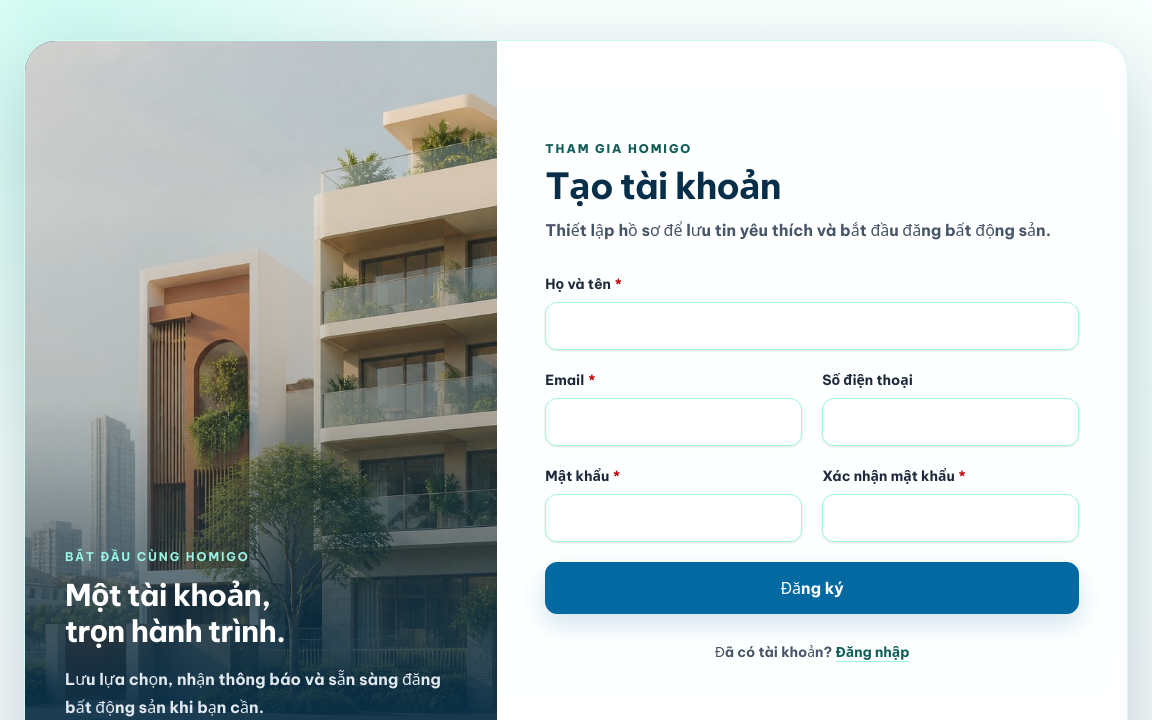
it: account pages › validates register confirmation before sending
Type "Nguyễn An" into the field labelled "Họ và tên*".
click(812, 326); type("Nguyễn An")  # box [545,302,1079,350]
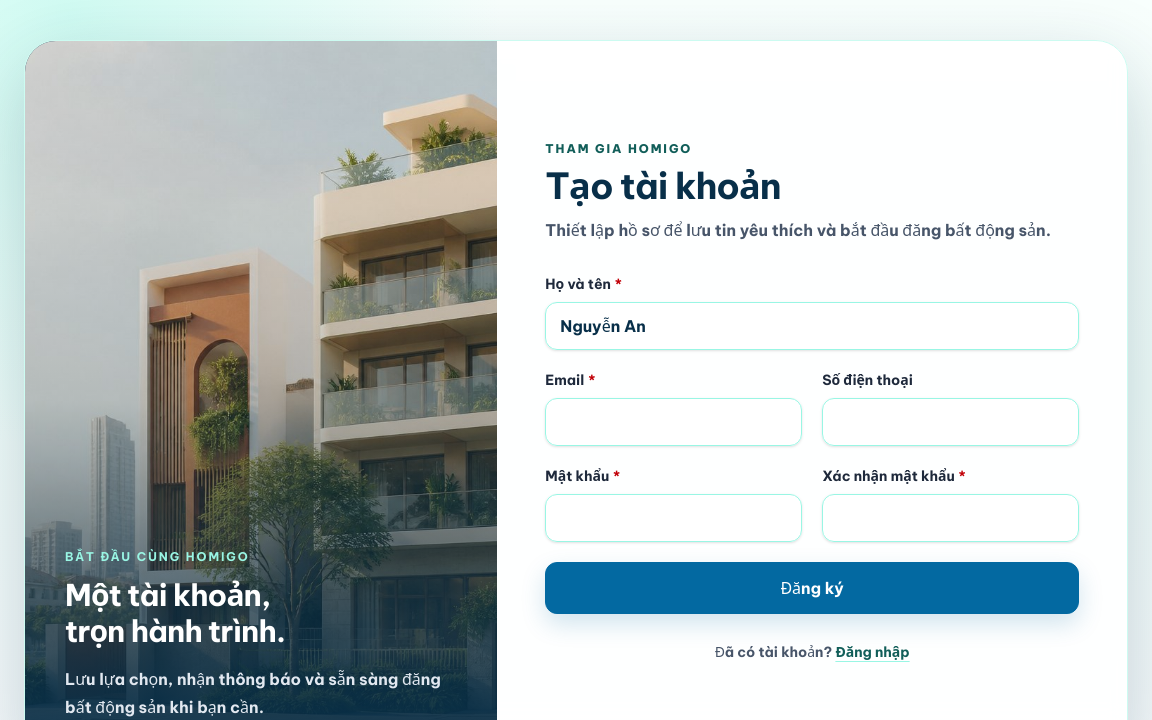
Type "an@test.vn" into the field labelled "Email*".
click(674, 422); type("an@test.vn")  # box [545,398,802,446]
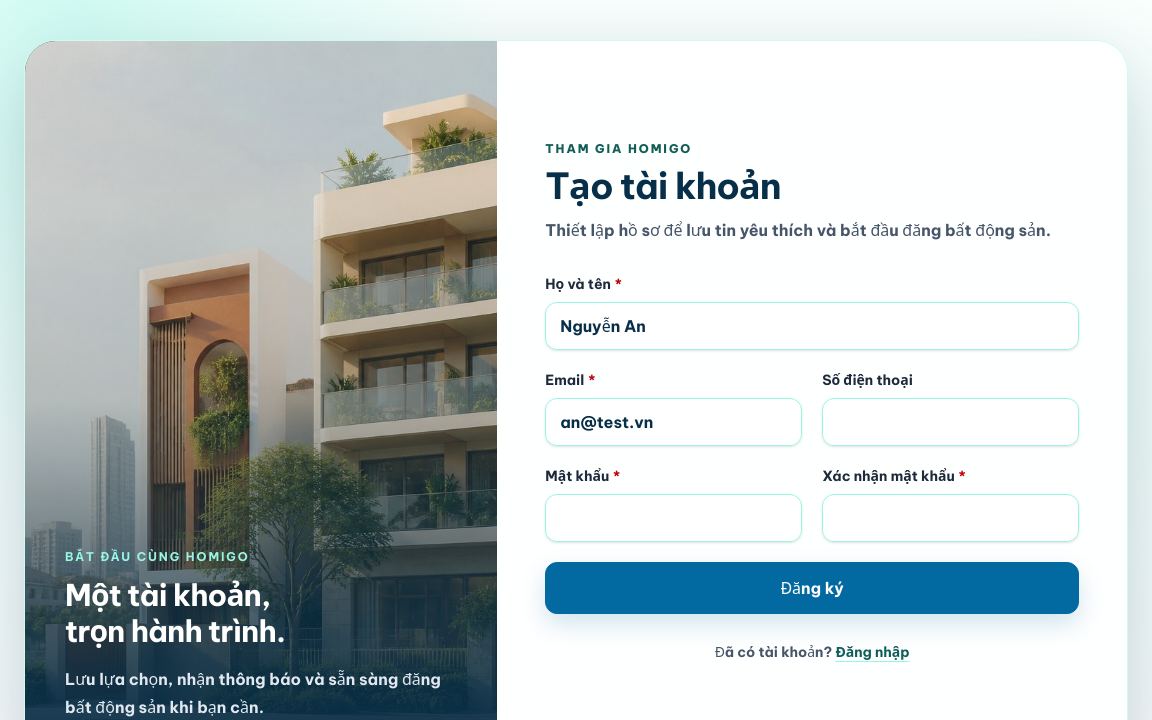
Type "correct-horse" into the password field labelled "Mật khẩu*".
click(674, 518); type("correct-horse")  # box [545,494,802,542]
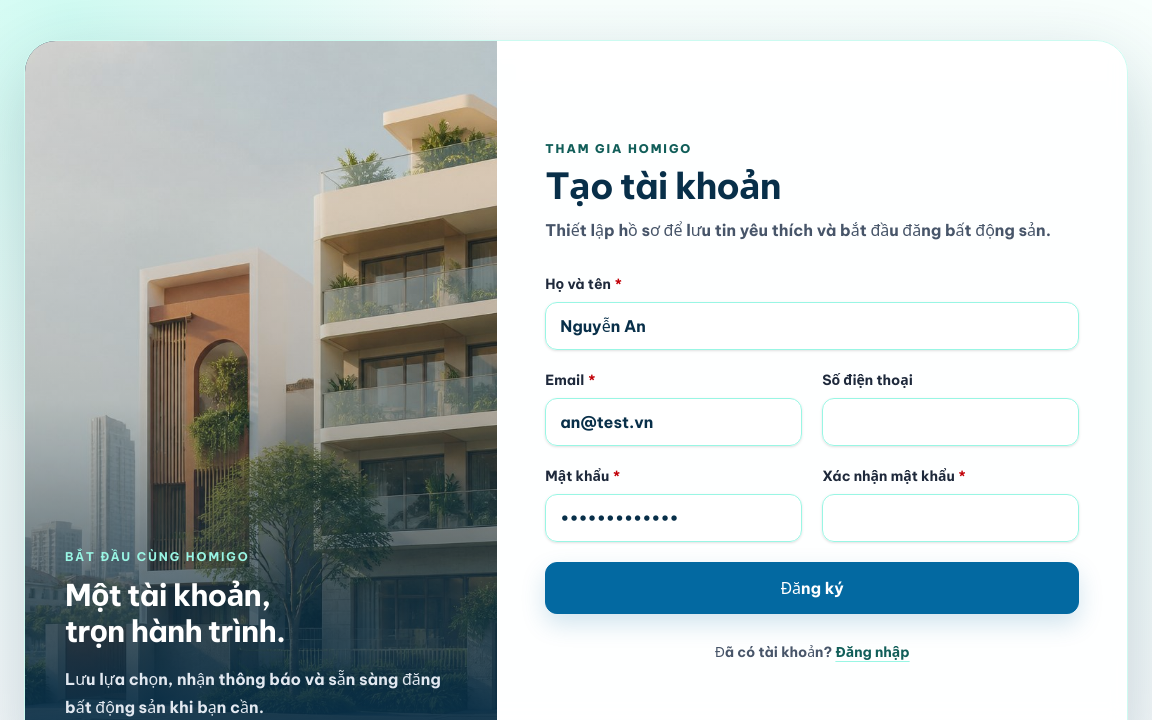
Type "different-passphrase" into the password field labelled "Xác nhận mật khẩu*".
click(951, 518); type("different-passphrase")  # box [822,494,1079,542]
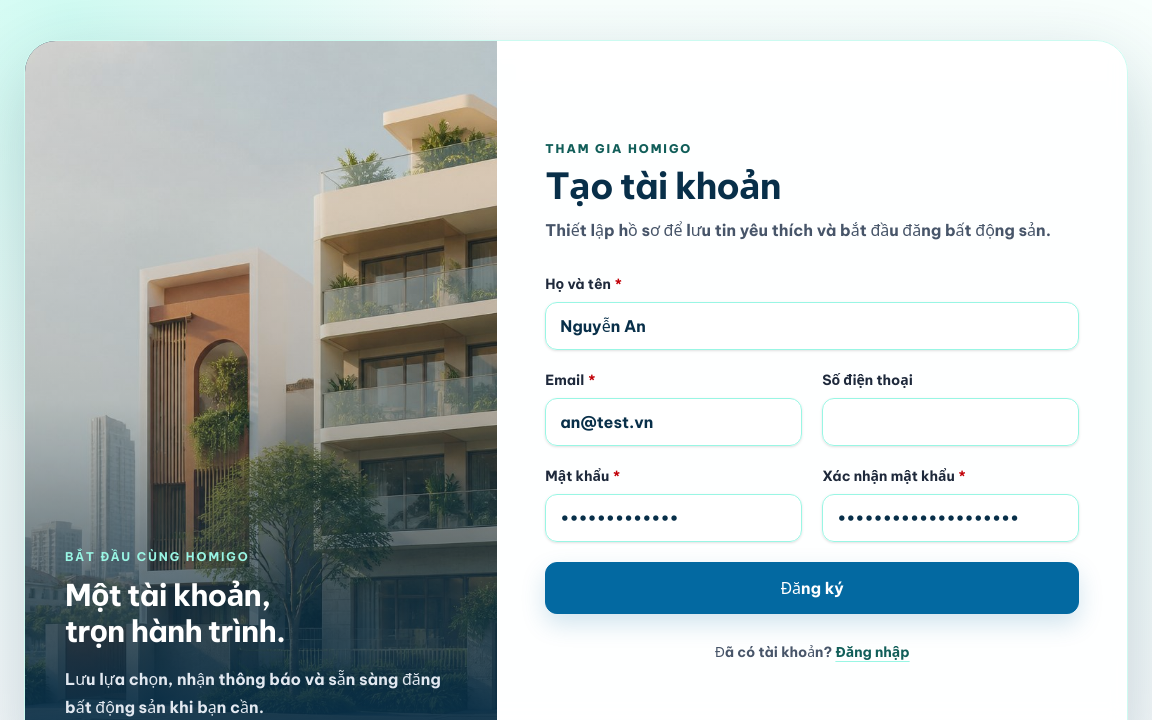
Click the button "Đăng ký".
click(812, 588)  # box [545,562,1079,614]
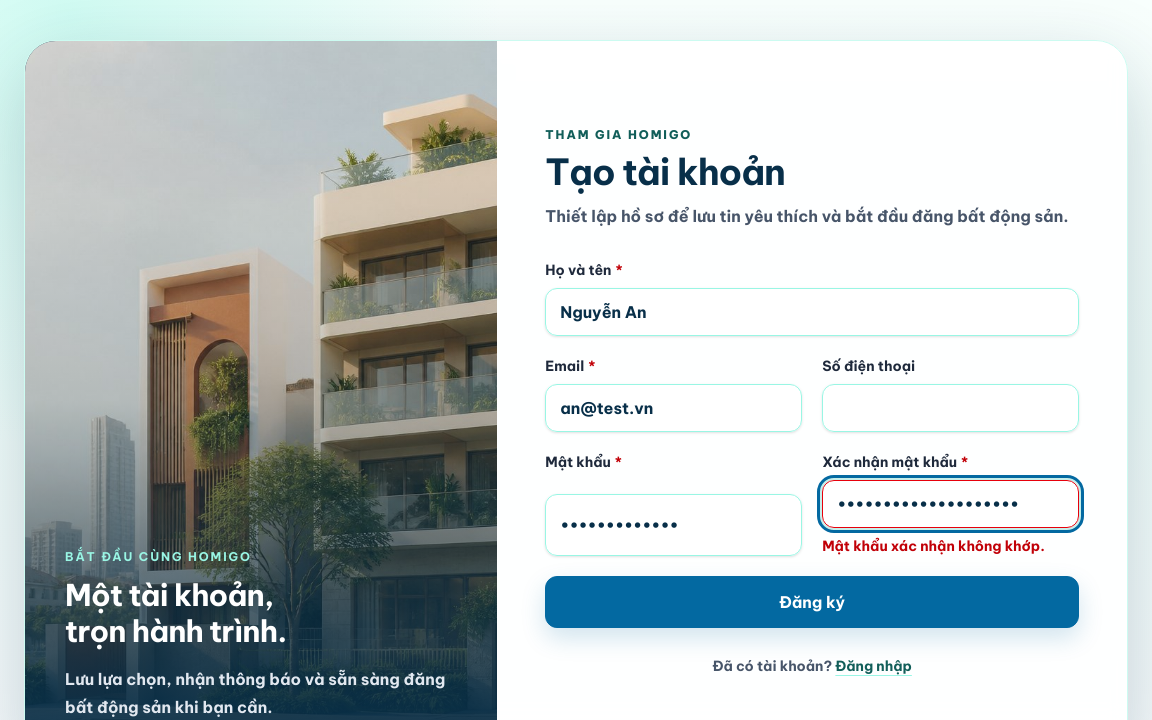
Check: the text "Mật khẩu xác nhận không khớp." is shown, box [822,536,1079,556]
